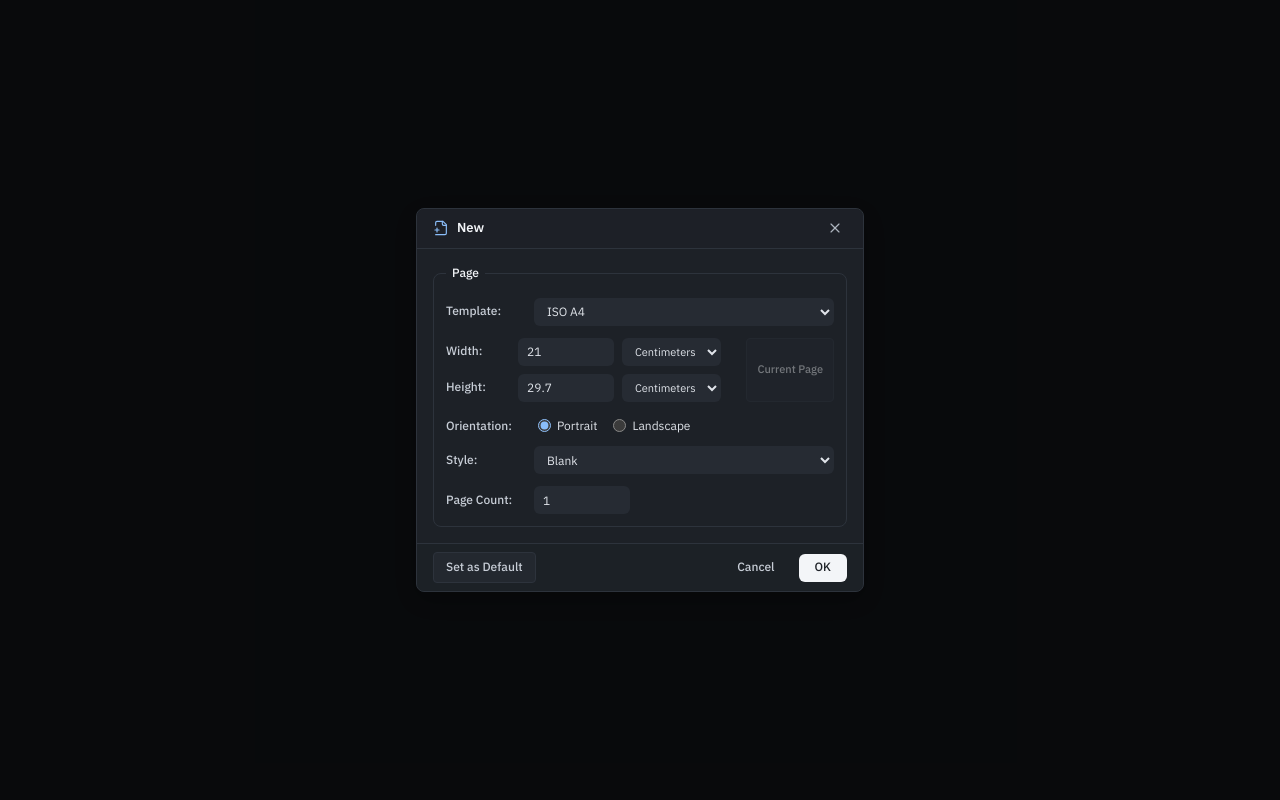
Scenario: NewPdfDialog Component › al editar manualmente el ancho o alto cambia la plantilla a <Custom>
Replace the text in the number field with test id "new-pdf-width" with "45.5" at (566, 352), box [518,338,614,366]
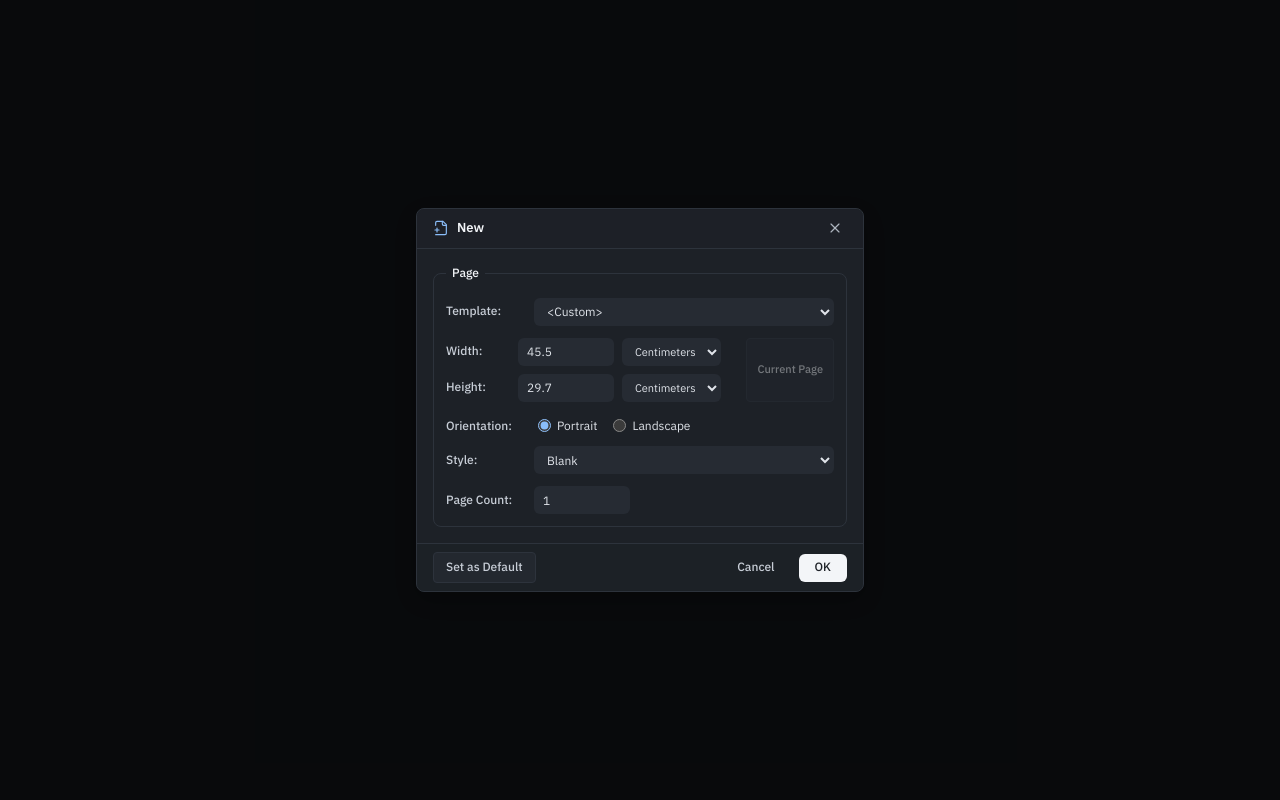
expect the dropdown with test id "new-pdf-template" shows "<Custom>": met, box [534,298,834,326]
